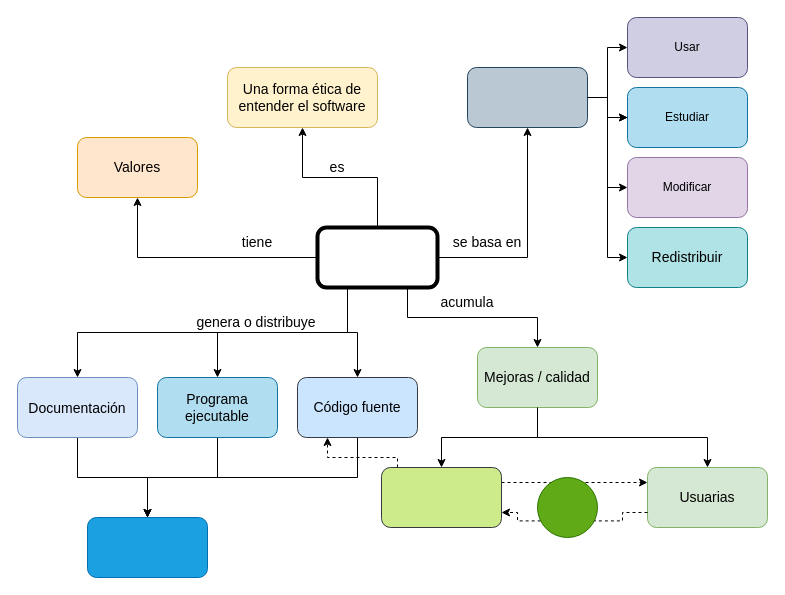
This 785x595 diagram has some shape labels left out. Here are the shapes that lost their labels. From the top down, the centre of each, then its label:
(527,97): Libertad
(377,257): Software libre
(441,497): Desarrolladoras
(567,507): Soporte
(147,547): Licencias libres
